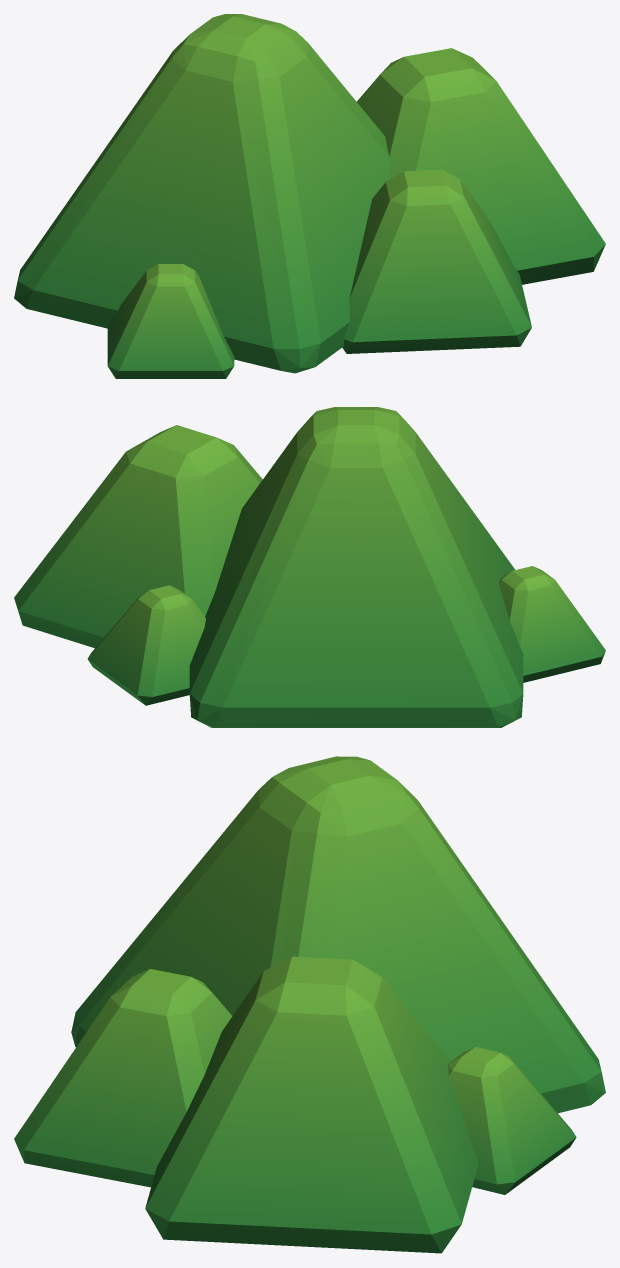
The model's file is kf_bush_4_e.fbx.
3 renders of one model, top to bottom at view 1: azimuth 30°, elevation 25°; view 2: azimuth 150°, elevation 25°; view 3: azimuth 270°, elevation 25°, orthographic. The views are drawn at different scales.
Parts seen in each view (by area): view 1: kf_bush_4_e_LOD0; view 2: kf_bush_4_e_LOD0; view 3: kf_bush_4_e_LOD0.
Boxes of the visible parts, x1,y1,x2,y2 form: kf_bush_4_e_LOD0: (14, 14, 605, 378); kf_bush_4_e_LOD0: (14, 407, 605, 727); kf_bush_4_e_LOD0: (14, 756, 605, 1253).
Size of what is drawn, in the model's own units: 4.31 by 2.08 by 3.65.
Materials: 1 (1 with a texture image).
